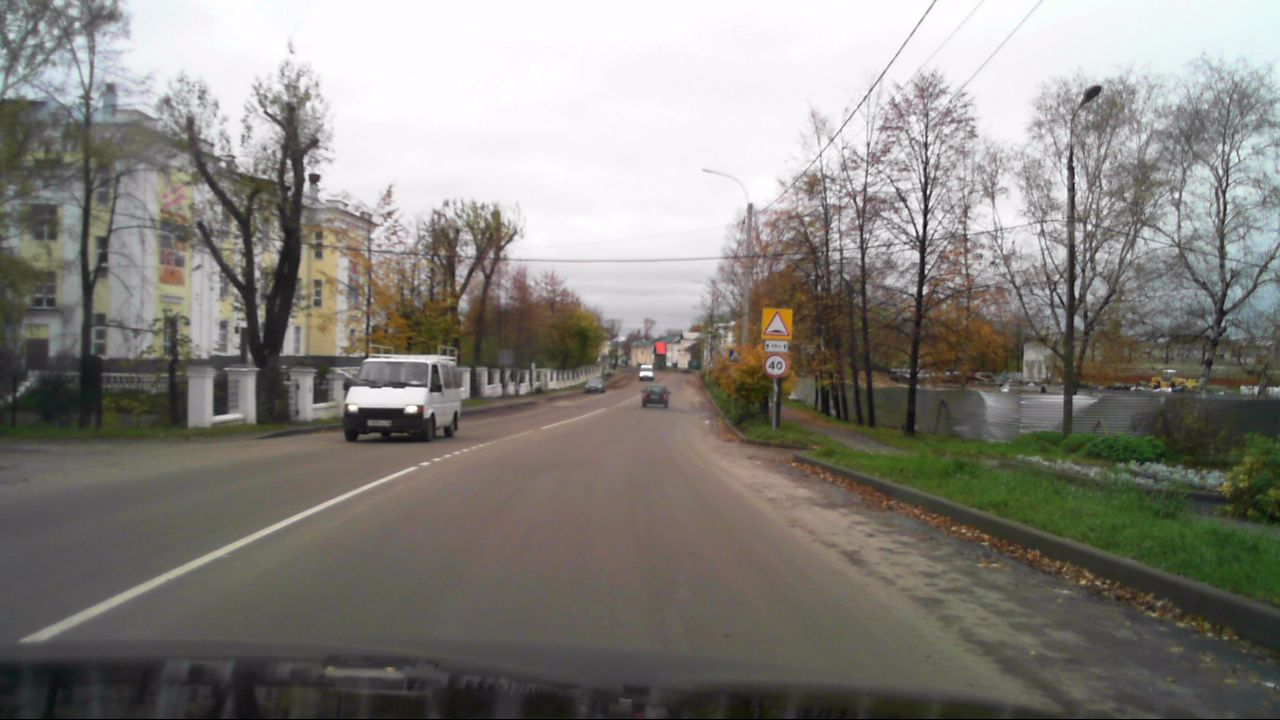speed_warning_40: (764, 354, 786, 376)
